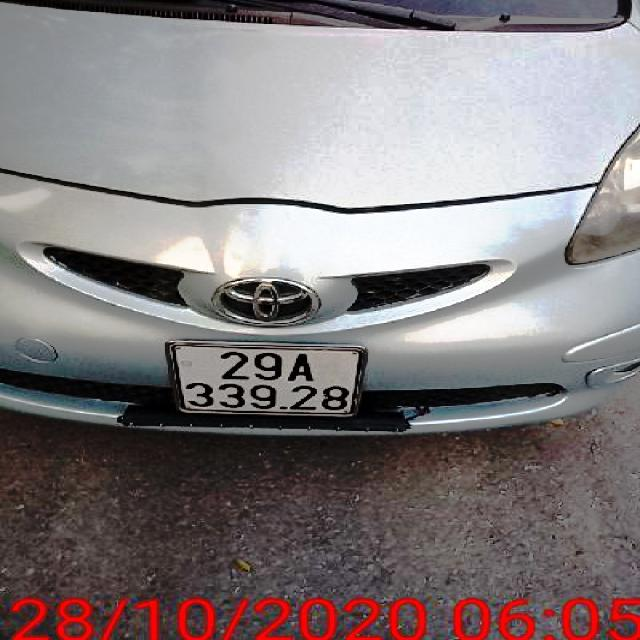license_plate: (172, 347, 366, 414)
